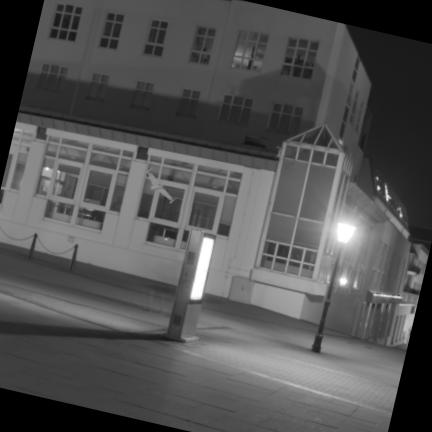Shahed: (147, 169, 176, 203)
